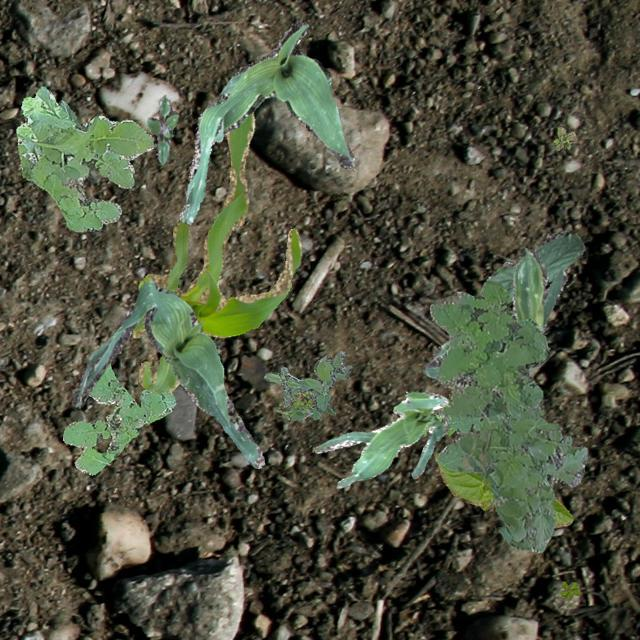crop: (130, 110, 300, 392), (70, 280, 264, 468), (178, 19, 354, 222), (422, 246, 566, 378), (312, 392, 452, 488), (434, 458, 572, 526), (486, 228, 584, 304), (58, 100, 78, 124)
weed: (428, 279, 586, 552), (15, 86, 156, 230), (62, 364, 175, 474), (262, 350, 352, 420), (146, 94, 178, 164), (422, 398, 454, 434), (274, 391, 314, 418), (552, 126, 574, 150), (560, 580, 580, 598)
